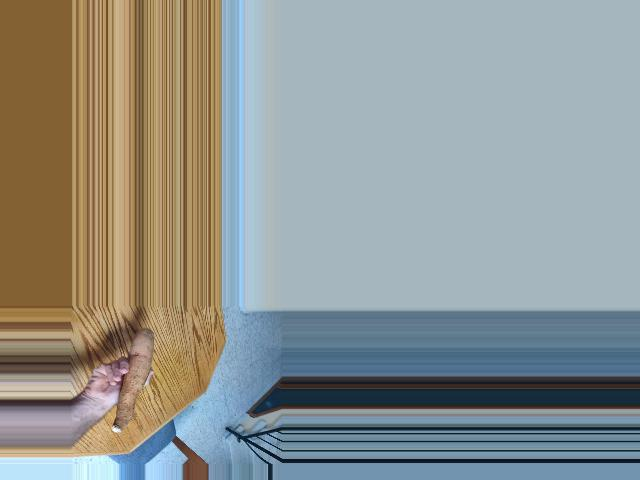sweet_potato: (101, 332, 159, 431)
